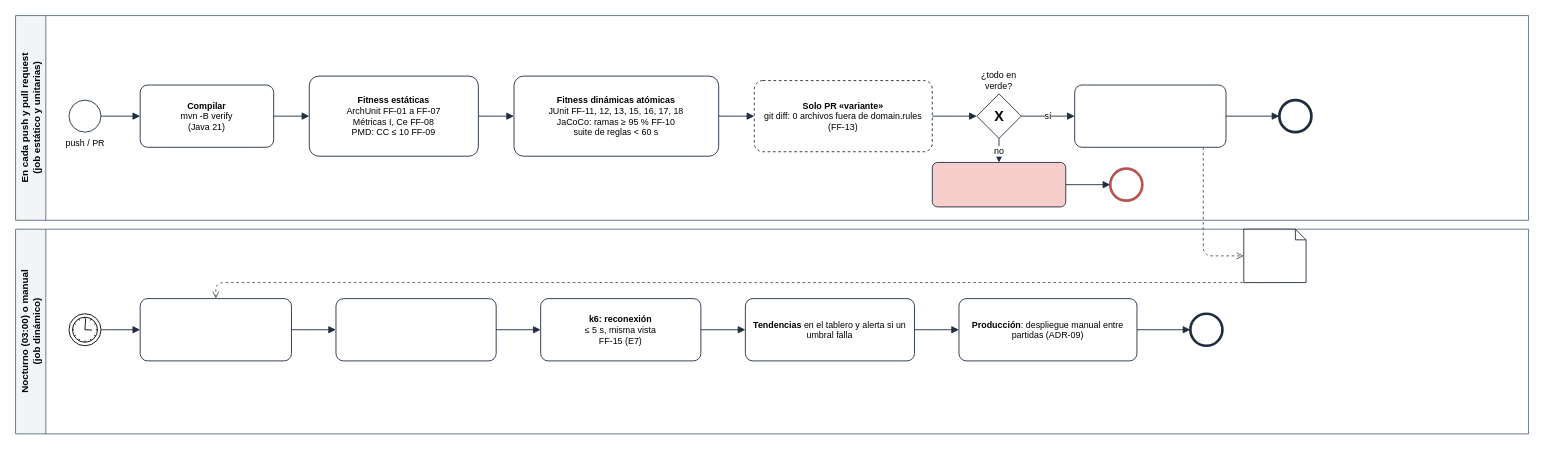
Image size: 1544x449. Some labels were removed from this diagram. Each missing label, with the centre of its shape:
Build rojo : el PR no se fusiona: point 998,184
cron: point 84,329
Desplegar a staging (imagen aprobada): point 215,329
imagen apuntado:<sha>: point 1274,255
k6: latencia p95 < 300 ms, 50 salas FF-14 (E4): point 415,329
Publica reportes e imagen Docker en ghcr.io: point 1150,115
